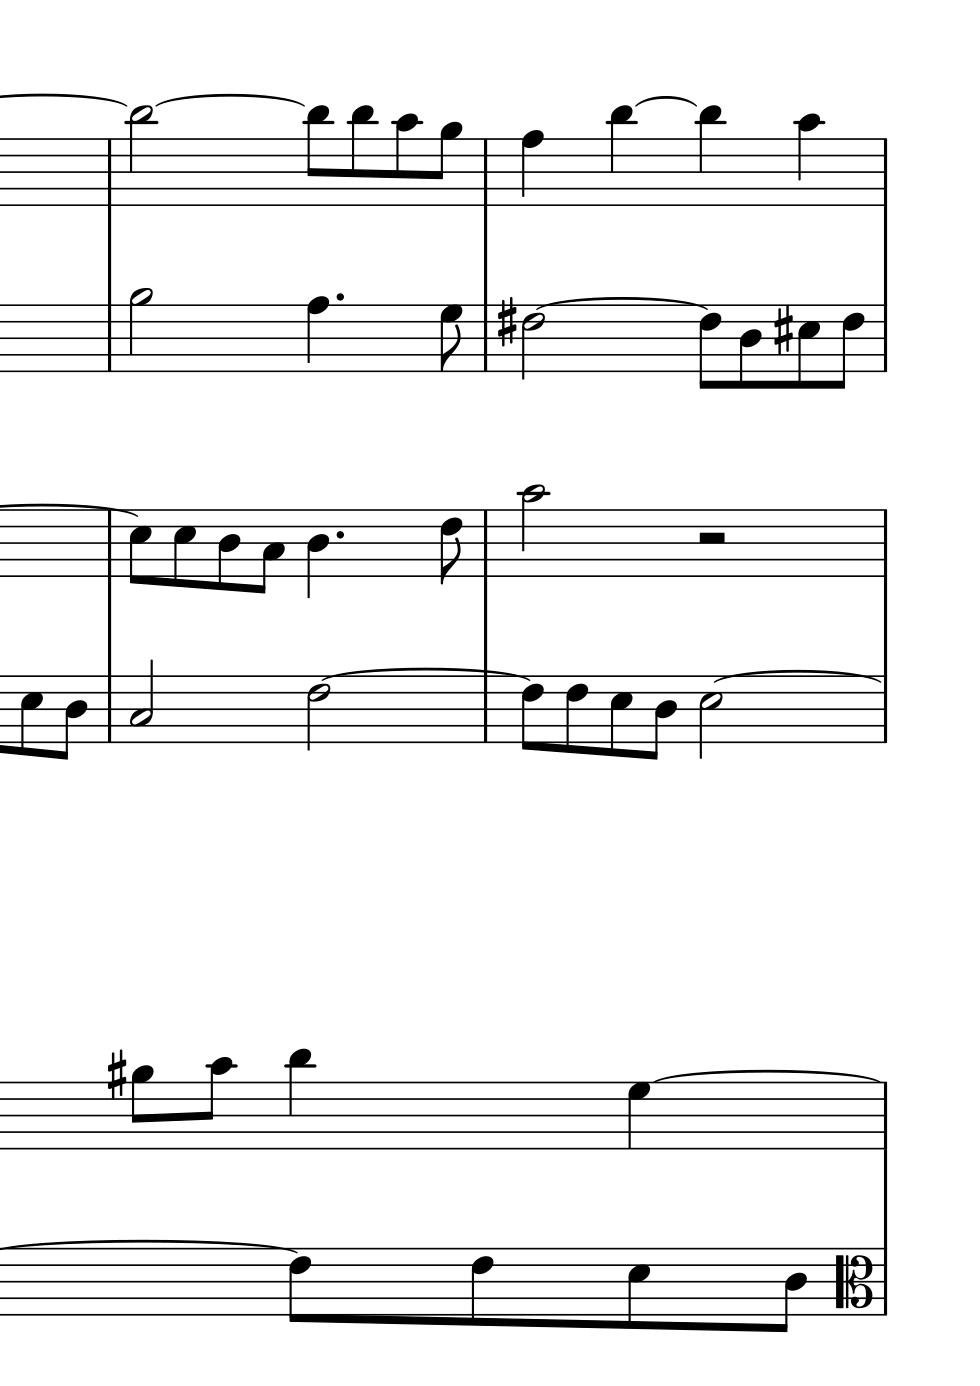2_10: (519, 481, 546, 579)
2_11: (124, 104, 154, 207)
2_2: (128, 660, 154, 742)
2_5: (697, 674, 723, 761)
2_6: (520, 303, 545, 380), (305, 676, 329, 751)
2_9: (127, 286, 152, 373)
4_10: (795, 111, 821, 209)
4_11: (285, 1047, 313, 1152)
4_4: (773, 1246, 805, 1334), (305, 508, 330, 600)
4_5: (623, 1246, 651, 1331)
4_7: (624, 1078, 652, 1150)
4_8: (518, 128, 544, 208), (305, 294, 329, 374)
8_10: (197, 1055, 232, 1150), (393, 112, 420, 207)
8_11: (695, 101, 723, 209), (607, 102, 635, 209), (348, 102, 377, 208), (305, 102, 332, 207)
8_3: (253, 508, 284, 596)
8_4: (57, 676, 87, 764), (646, 674, 676, 762), (215, 508, 241, 593), (737, 303, 762, 390)
8_5: (608, 673, 633, 759), (795, 303, 820, 391), (18, 674, 43, 758), (171, 507, 196, 589), (127, 507, 151, 586)
8_6: (833, 303, 865, 392), (697, 303, 722, 391), (467, 1245, 493, 1328), (286, 1244, 312, 1324), (519, 673, 544, 753), (438, 507, 463, 585), (564, 673, 588, 756)
8_7: (438, 303, 463, 373)
8_9: (432, 121, 462, 208), (128, 1064, 154, 1151)
Cclef: (833, 1246, 875, 1315)
Rests2: (694, 530, 729, 548)
Sharp: (771, 304, 794, 356), (495, 296, 517, 348), (106, 1048, 126, 1100)
Single_barline: (476, 138, 495, 206), (875, 676, 894, 743), (875, 137, 893, 206), (876, 1248, 894, 1316), (476, 303, 493, 372), (477, 509, 494, 577), (477, 676, 494, 743), (101, 304, 118, 371), (101, 139, 118, 205), (877, 304, 893, 374), (101, 513, 118, 577), (878, 1082, 893, 1150), (877, 510, 892, 577), (102, 676, 117, 742)
Slur: (319, 667, 529, 683), (654, 1069, 877, 1083), (714, 666, 883, 682), (154, 91, 307, 107), (538, 298, 708, 311), (636, 94, 695, 108)
dot: (332, 290, 346, 304), (333, 528, 346, 541)
